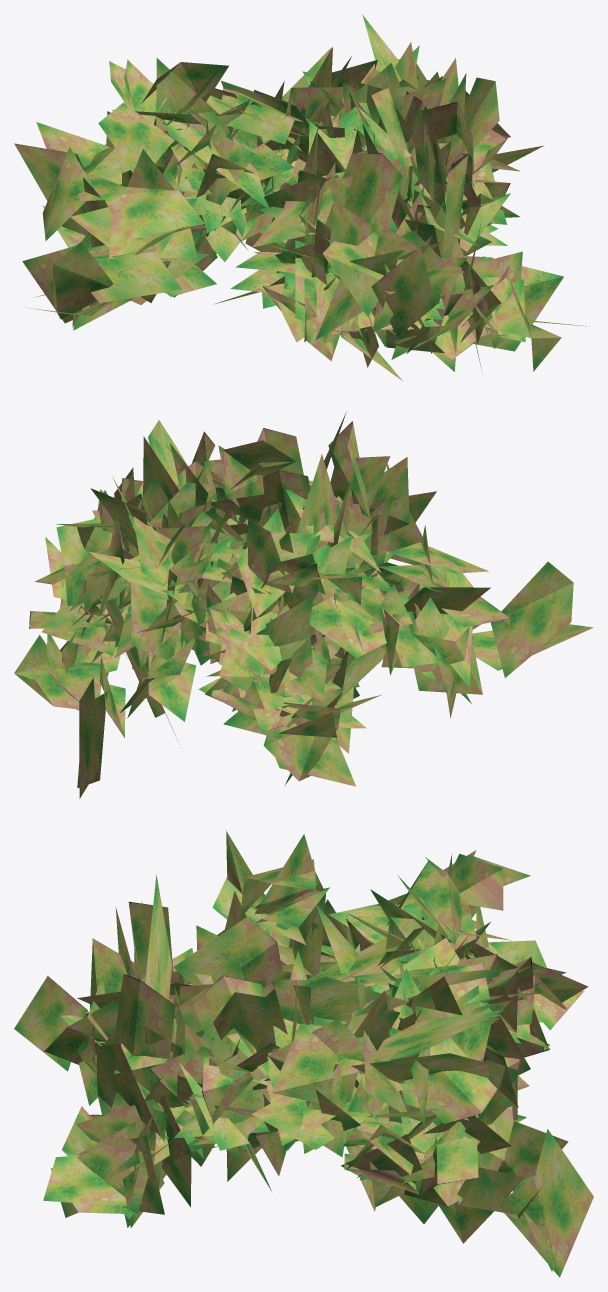
File: bush_2.obj
The picture shows the model from 3 angles, top to bottom: view 1: azimuth 30°, elevation 25°; view 2: azimuth 150°, elevation 25°; view 3: azimuth 270°, elevation 25°; orthographic projection. The views are drawn at different scales.
Parts seen in each view (by area): view 1: Bush_1_2; view 2: Bush_1_2; view 3: Bush_1_2.
Part boxes in pixels (<box>): Bush_1_2: <box>14,15,589,380</box>; Bush_1_2: <box>14,411,593,798</box>; Bush_1_2: <box>14,830,593,1277</box>.
Bounding box in the file's own units: 0.6106 × 0.3465 × 0.5262.
Materials: 1 (1 with a texture image).
